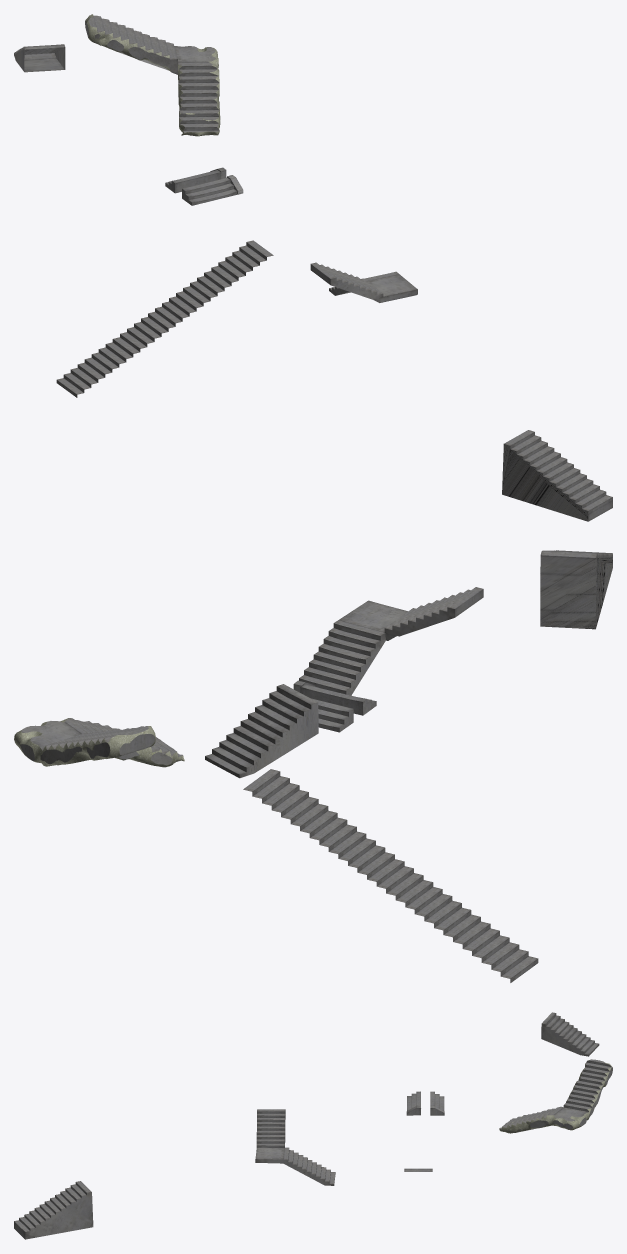
Rendered from SM_CorridorSculpture_02_stairs.fbx.
3 views of the same model, one above another, from view 1: azimuth 30°, elevation 25°; view 2: azimuth 150°, elevation 25°; view 3: azimuth 270°, elevation 25° (orthographic). The views are drawn at different scales.
Parts seen in each view (by area): view 1: SM_CorridorSculpture_02_stairs; view 2: SM_CorridorSculpture_02_stairs; view 3: SM_CorridorSculpture_02_stairs.
Boxes of the visible parts, x1,y1,x2,y2 form: SM_CorridorSculpture_02_stairs: (14,14,612,521); SM_CorridorSculpture_02_stairs: (14,550,612,982); SM_CorridorSculpture_02_stairs: (14,1012,612,1239).
Size of the model in its own units: 2108 by 1970 by 6040.
